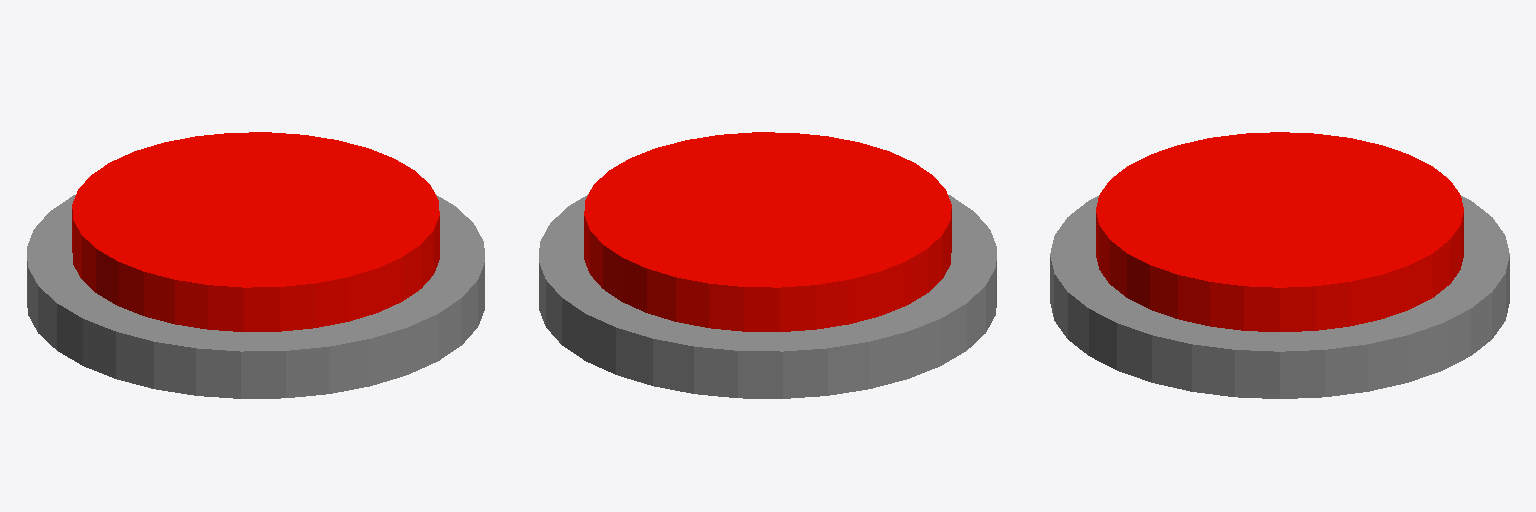
3 renders of one model, left to right at view 1: azimuth 30°, elevation 25°; view 2: azimuth 150°, elevation 25°; view 3: azimuth 270°, elevation 25°, orthographic.
Parts seen in each view (by area): view 1: button_円柱.001; view 2: button_円柱.001; view 3: button_円柱.001.
Part boxes in pixels (bbox=[...]): button_円柱.001: bbox=[27, 132, 484, 398]; button_円柱.001: bbox=[539, 132, 996, 398]; button_円柱.001: bbox=[1050, 132, 1509, 398].
Size of the model in its own units: 2 by 0.4421 by 2.
Materials: 1 (1 with a texture image).